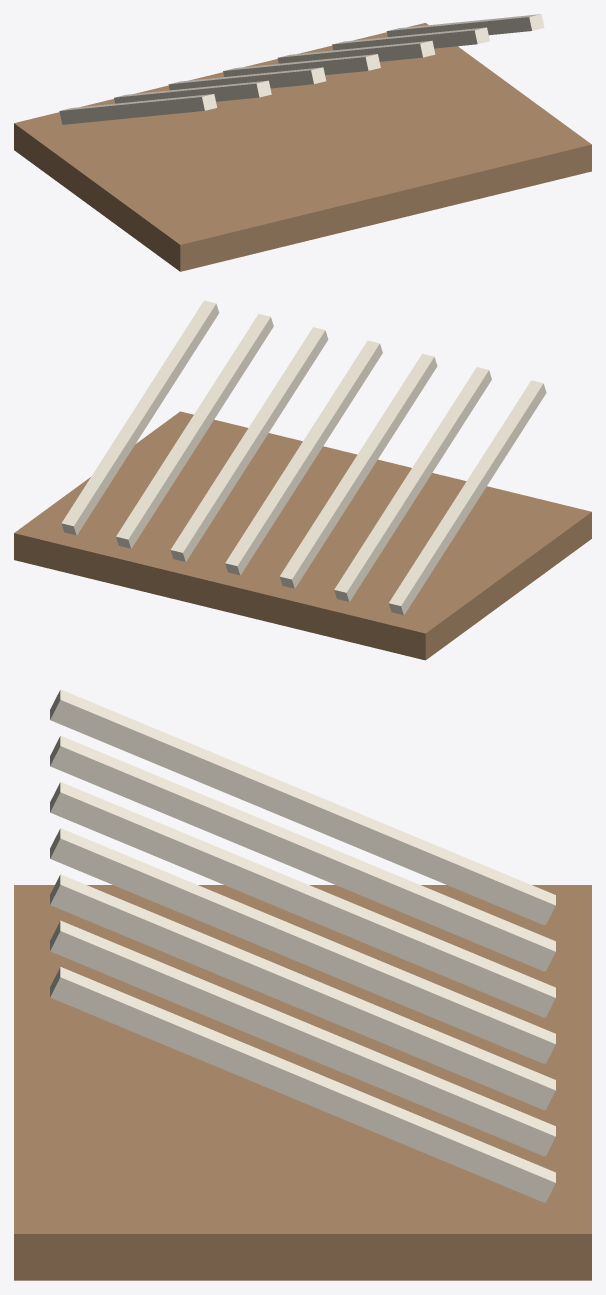
File: cozy-home-interiors-dish-rack-2e362a2c.glb
3 renders of one model, top to bottom at view 1: azimuth 30°, elevation 25°; view 2: azimuth 150°, elevation 25°; view 3: azimuth 270°, elevation 25°, orthographic. The views are drawn at different scales.
Visible parts, largest first — view 1: dish-rack; view 2: dish-rack; view 3: dish-rack.
Boxes of the visible parts, left/top/right/bottom form: dish-rack: left=14, top=14, right=591, bottom=271; dish-rack: left=14, top=300, right=591, bottom=660; dish-rack: left=14, top=689, right=591, bottom=1280.
Size of the model in its own units: 0.4 by 0.1455 by 0.28.
